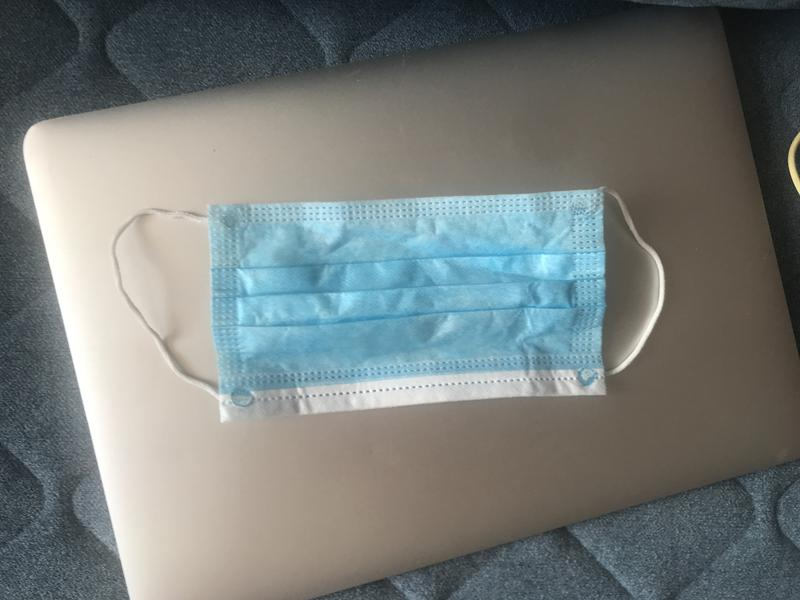medical_mask: (111, 190, 664, 420)
